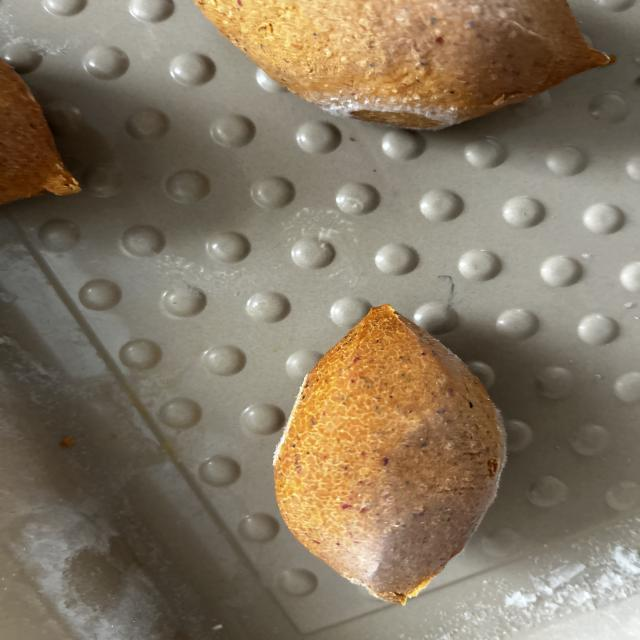kobi: (270, 303, 507, 605), (192, 0, 613, 130)
